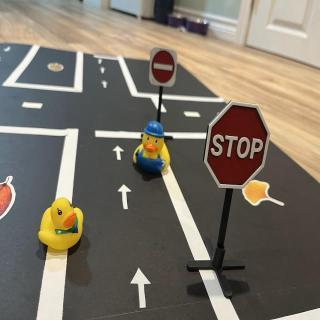duck_regular: (39, 198, 85, 256)
duck_specialty: (133, 122, 171, 182)
road_oneway: (132, 264, 153, 312), (119, 181, 135, 213), (114, 143, 125, 163), (4, 45, 14, 56), (102, 79, 110, 91), (101, 68, 107, 76), (98, 59, 104, 65)
sign_noentry: (150, 49, 178, 89)
sign_stop: (204, 103, 271, 193)
